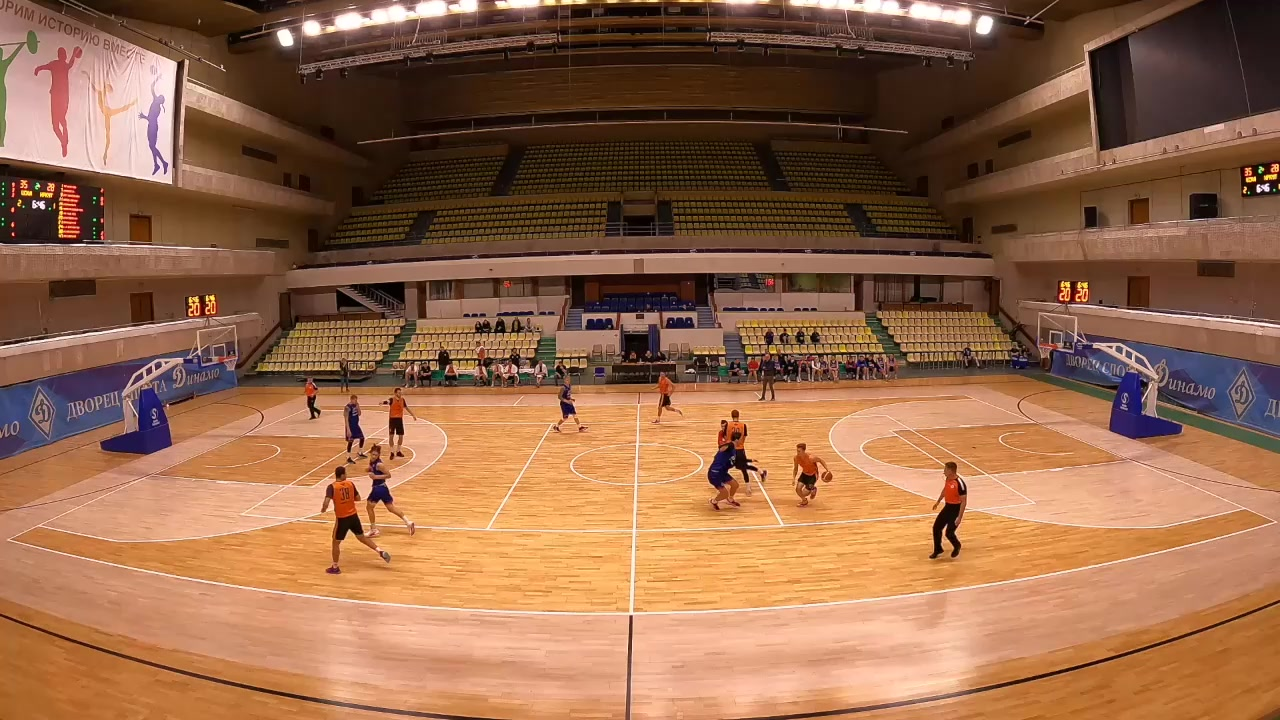basketball: (794, 485, 823, 501)
